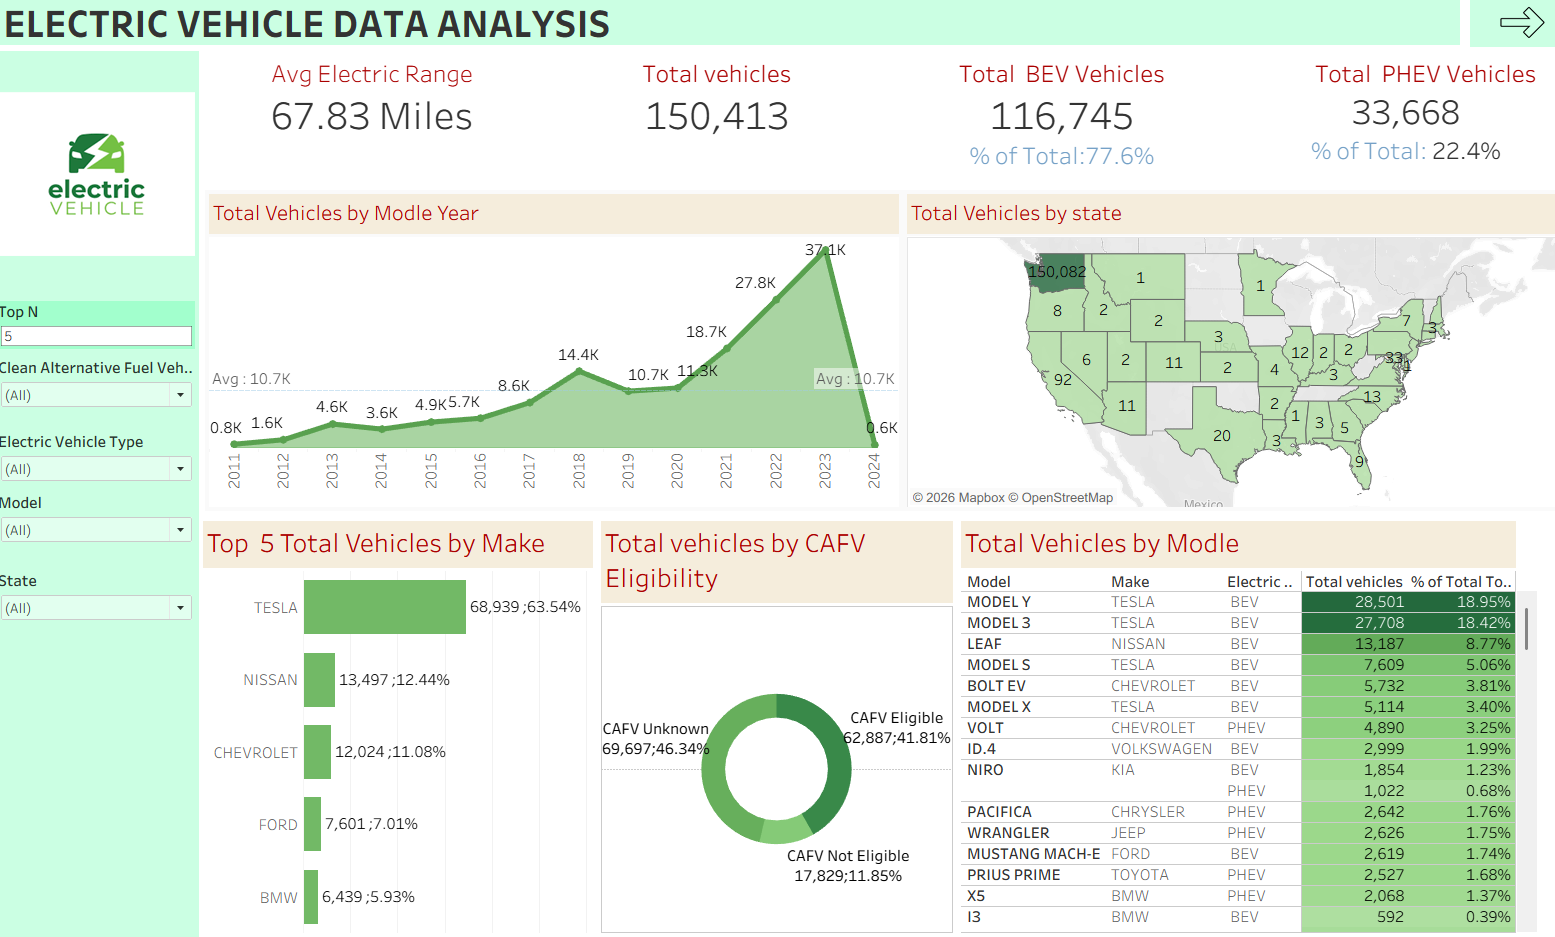

The page's visual inventory and layout, read from the dashboard file:
{"tool":"tableau","page":{"name":"Dashboard 1","canvas":[1000,1000],"units":"permille","ordinal":0},"visuals":[{"type":"title","box":[5,8.9,920,60]},{"type":"dashboard-object","box":[925,8.9,70,60]},{"type":"image","param":"Image/images.png","box":[5,68.9,128.1,211.1]},{"type":"worksheet","title":"Avg Electric Range","mark":"Automatic","box":[133.1,68.9,215.6,138.9]},{"type":"worksheet","title":"Total vehicles","mark":"Automatic","box":[348.8,68.9,215.6,138.9]},{"type":"worksheet","title":"Total  BEV Vehicle","mark":"Automatic","box":[564.4,68.9,215.6,138.9]},{"type":"worksheet","title":"Total  PHEV Vehicle","mark":"Automatic","box":[780,68.9,215,138.9]},{"type":"worksheet","title":"Total Vehicles by Modle Year","mark":"Area","rows":["Calculation_410672049569947648","Calculation_410672049569947648"],"cols":["Model Year"],"box":[136.9,214,436.2,333.8]},{"type":"worksheet","title":"Total Vehicles by state","mark":"Multipolygon","box":[573.1,214,418.1,333.8]},{"type":"parameter","param":"[Parameters].[Parameter 1]","box":[5,280,128.1,62.2]},{"type":"filter","title":"Total Vehicles by Modle Year","param":"[federated.0rjp2in0qei1ps1ghi4j71gh518t].[none:Clean Alternative Fuel Vehicle (C","box":[5,342.2,128.1,82.2]},{"type":"filter","title":"Total Vehicles by Modle Year","param":"[federated.0rjp2in0qei1ps1ghi4j71gh518t].[none:Electric Vehicle Type:nk]","box":[5,424.4,128.1,67.8]},{"type":"filter","title":"Total Vehicles by Modle Year","param":"[federated.0rjp2in0qei1ps1ghi4j71gh518t].[none:Model:nk]","box":[5,492.2,128.1,86.7]},{"type":"worksheet","title":"Top 10 Total Vehicles by Make","mark":"Automatic","rows":["Make"],"cols":["Calculation_410672049569947648"],"box":[133.1,554.4,248.8,436.7]},{"type":"worksheet","title":"Total vehicles by CAFV Eligibility","mark":"Pie","rows":["Calculation_805862920419540994","Calculation_805862920419540994"],"box":[381.9,554.4,225,436.7]},{"type":"worksheet","title":"Total Vehicles by Modle","mark":"Square","rows":["Model","Make","Electric Vehicle Type"],"box":[606.9,554.4,388.1,436.7]},{"type":"filter","title":"Total Vehicles by Modle Year","param":"[federated.0rjp2in0qei1ps1ghi4j71gh518t].[none:State:nk]","box":[5,578.9,128.1,108.9]}]}

Visuals, with their boxes on the dashboard's canvas, which has no fixed pixel size, in thousandths of its width and height (x1, y1, x2, y2). These are canvas units, not pixel positions in the 1555x937 screenshot, which may show the page scaled, cropped or inside an application window:
title: <region>5, 9, 925, 69</region>
dashboard-object: <region>925, 9, 995, 69</region>
image: <region>5, 69, 133, 280</region>
"Avg Electric Range" worksheet: <region>133, 69, 349, 208</region>
"Total vehicles" worksheet: <region>349, 69, 564, 208</region>
"Total  BEV Vehicle" worksheet: <region>564, 69, 780, 208</region>
"Total  PHEV Vehicle" worksheet: <region>780, 69, 995, 208</region>
"Total Vehicles by Modle Year" worksheet (Area marks): <region>137, 214, 573, 548</region>
"Total Vehicles by state" worksheet (Multipolygon marks): <region>573, 214, 991, 548</region>
parameter: <region>5, 280, 133, 342</region>
"Total Vehicles by Modle Year" filter: <region>5, 342, 133, 424</region>
"Total Vehicles by Modle Year" filter: <region>5, 424, 133, 492</region>
"Total Vehicles by Modle Year" filter: <region>5, 492, 133, 579</region>
"Top 10 Total Vehicles by Make" worksheet: <region>133, 554, 382, 991</region>
"Total vehicles by CAFV Eligibility" worksheet (Pie marks): <region>382, 554, 607, 991</region>
"Total Vehicles by Modle" worksheet (Square marks): <region>607, 554, 995, 991</region>
"Total Vehicles by Modle Year" filter: <region>5, 579, 133, 688</region>
